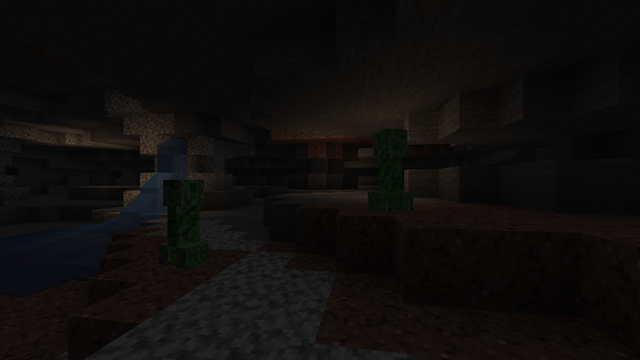creepers: (158, 175, 206, 268), (374, 124, 406, 211)
